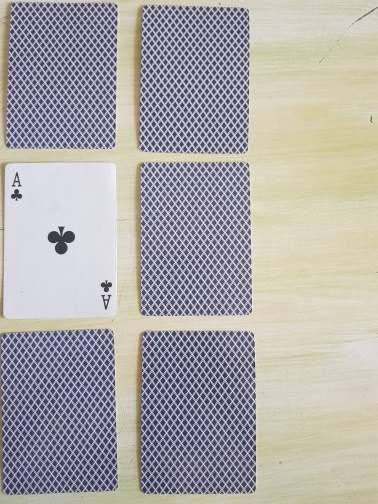ace: (1, 161, 119, 320)
